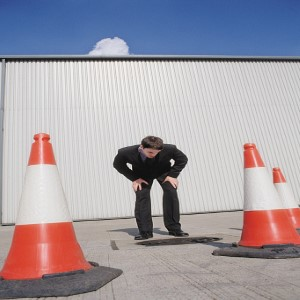traffic cone: (1, 133, 122, 300), (212, 142, 300, 260), (263, 166, 300, 238)
